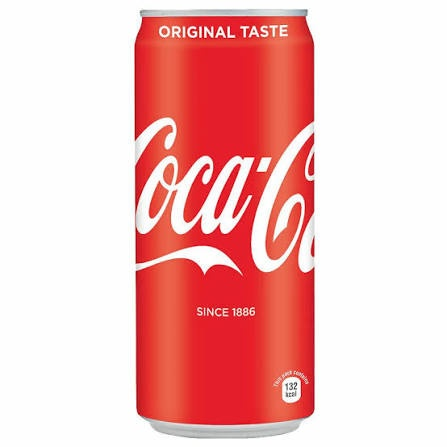cocaco: (133, 3, 320, 433)
